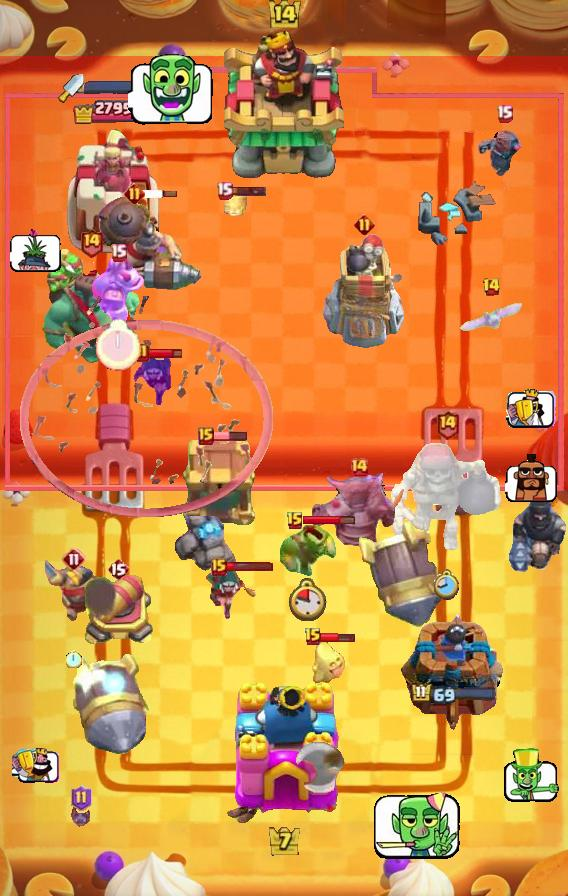bar: (64, 124, 164, 256)
barbarian: (457, 301, 525, 333)
barbarian-barrel: (69, 804, 93, 828)
bat-evolution: (311, 640, 345, 684)
battle-ram: (476, 124, 532, 180)
bomb: (178, 439, 256, 527)
electro-giant: (388, 442, 506, 554)
elixir: (95, 319, 140, 371), (289, 579, 327, 622), (434, 569, 460, 601), (66, 650, 82, 668)
elixir-golem-small: (91, 254, 145, 326)
emote: (304, 514, 357, 525), (224, 560, 274, 571), (149, 347, 184, 360), (230, 185, 267, 197), (212, 430, 248, 442), (320, 633, 356, 644), (142, 189, 178, 199)
firecracker: (45, 560, 103, 623)
flying-machine: (280, 525, 336, 579)
golemite: (311, 469, 407, 555)
ice-spirit-evolution: (221, 189, 247, 217)
inferno-dragon: (506, 485, 568, 573)
king-tower: (224, 29, 344, 181), (222, 680, 346, 826)
king-tower-bar: (84, 80, 156, 94)
lava-hound: (39, 247, 143, 369)
queen-tower: (401, 613, 505, 731)
royal-giant: (292, 741, 348, 795)
royal-recruit: (82, 575, 154, 649)
selected: (72, 98, 156, 124), (411, 682, 498, 706)
skeleton: (372, 784, 464, 864), (129, 53, 216, 126), (503, 747, 562, 804), (506, 453, 559, 503), (10, 227, 62, 273), (507, 389, 558, 429), (12, 748, 60, 785)
skeleton-barrel: (19, 296, 272, 519)
tesla: (205, 563, 257, 623), (131, 353, 175, 409)
text: (80, 226, 105, 257), (435, 408, 460, 439), (62, 547, 86, 571), (71, 785, 92, 811), (107, 557, 129, 581), (353, 213, 375, 235), (123, 183, 144, 205), (349, 457, 369, 477), (482, 277, 501, 297), (286, 511, 304, 531), (304, 627, 322, 647), (215, 181, 233, 200), (495, 105, 513, 123), (134, 343, 150, 363), (109, 243, 126, 261), (198, 427, 214, 445), (211, 558, 227, 576)
valkyrie-evolution: (175, 515, 241, 577)
wizard: (95, 195, 207, 293)
x-bow: (358, 520, 442, 628), (70, 652, 150, 756)
zappy: (321, 231, 406, 353)
